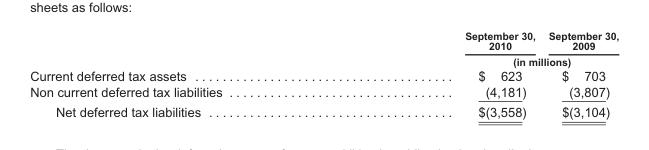table: (29, 29, 618, 119)
table column: (29, 29, 342, 119), (342, 29, 541, 119), (541, 29, 618, 119)
table column header: (29, 29, 618, 67)
table row: (29, 29, 618, 53), (29, 83, 618, 101), (29, 101, 618, 119), (29, 67, 618, 83), (29, 53, 618, 67)
table spanning cell: (342, 53, 618, 67)
